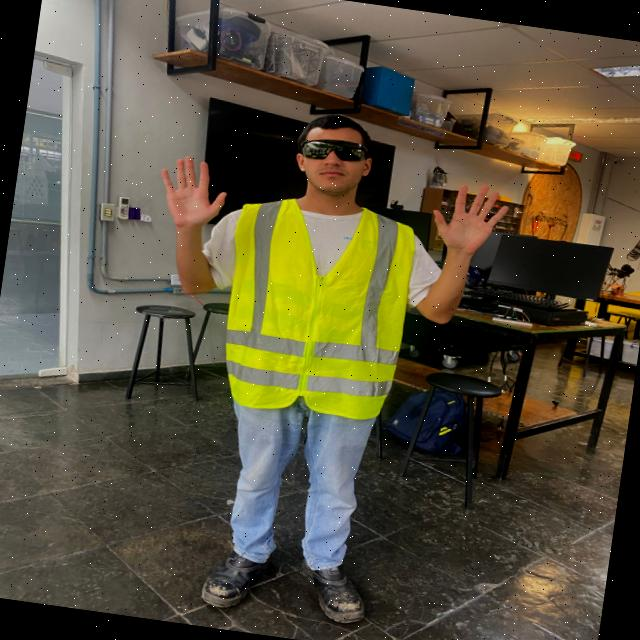BOTA: (297, 548, 372, 626), (198, 539, 268, 611)
COLETE: (224, 196, 419, 424)
OCULOS: (296, 140, 370, 165)
SEM LUVA: (156, 154, 231, 229), (428, 182, 508, 252)
